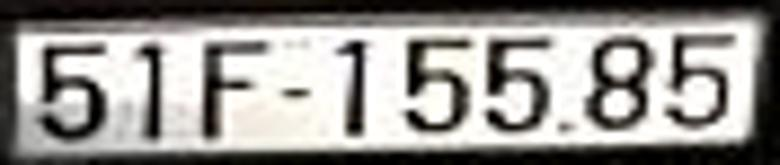-: (278, 84, 313, 100)
.: (556, 119, 578, 138)
1: (331, 38, 373, 136), (132, 37, 171, 139)
5: (402, 35, 473, 137), (482, 34, 552, 137), (666, 33, 738, 131)
8: (41, 40, 110, 144), (586, 29, 652, 133)
F: (199, 39, 271, 141)
